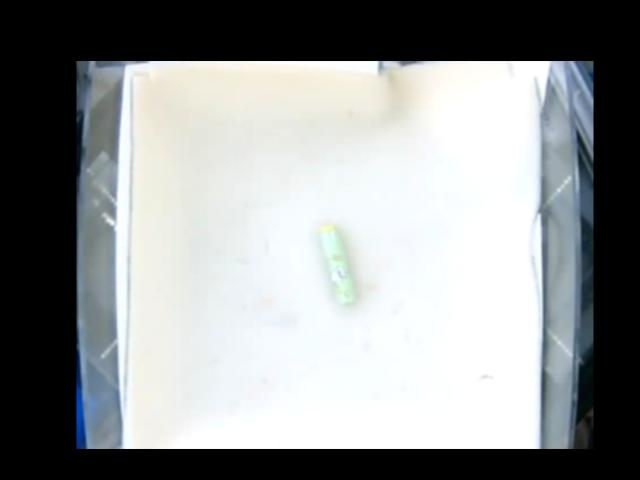Battery: (319, 224, 356, 305)
